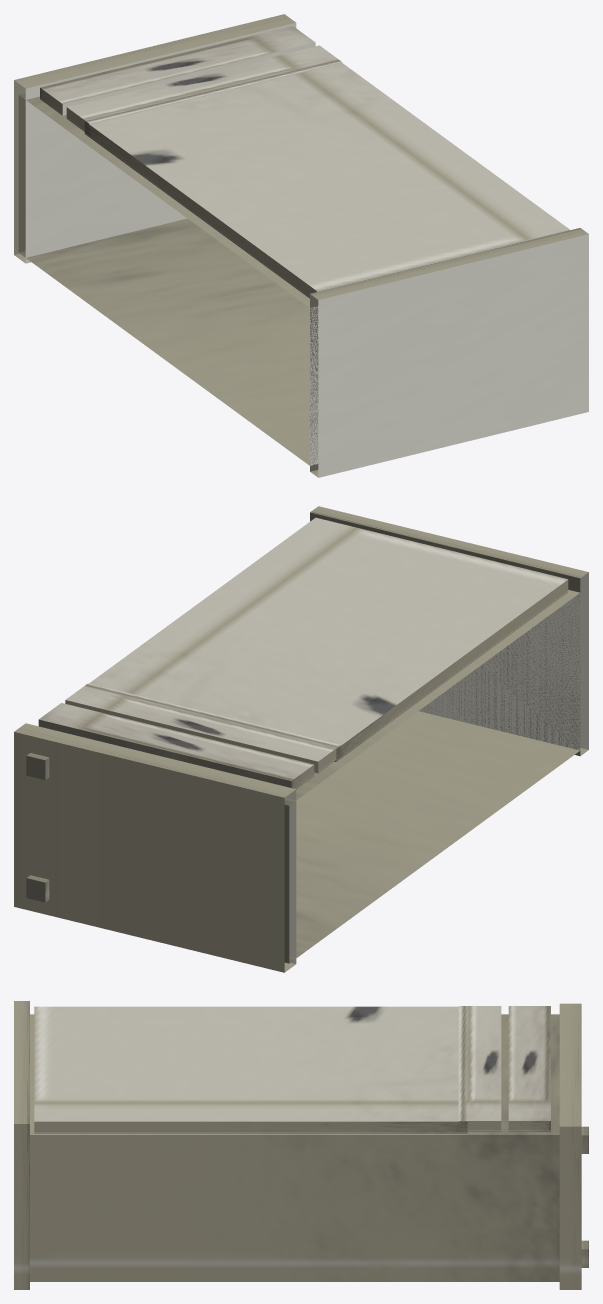
File: pz_wardrobe_storage_01_fancy_white_1_0.obj
3 renders of one model, top to bottom at view 1: azimuth 30°, elevation 25°; view 2: azimuth 150°, elevation 25°; view 3: azimuth 270°, elevation 25°, orthographic. The views are drawn at different scales.
Size of the model in its own units: 0.995 by 0.625 by 1.96.
Materials: 1 (1 with a texture image).
